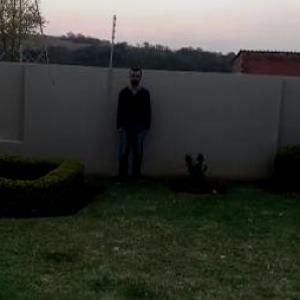follow: (114, 63, 152, 189)
